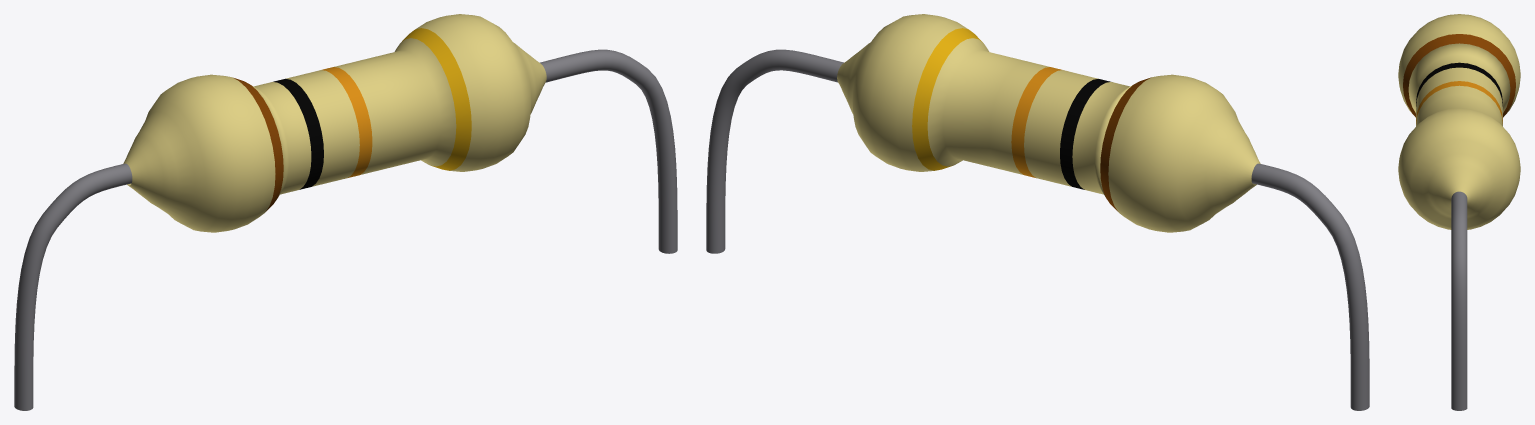
Rendered from Resistor10K.fbx.
3 views of the same model, side by side, from view 1: azimuth 30°, elevation 25°; view 2: azimuth 150°, elevation 25°; view 3: azimuth 270°, elevation 25° (orthographic). The views are drawn at different scales.
Visible parts, largest first — view 1: Resistor.001; view 2: Resistor.001; view 3: Resistor.001.
Part boxes in pixels (x1,y1,x2,y2): Resistor.001: [14, 14, 677, 410]; Resistor.001: [706, 14, 1369, 410]; Resistor.001: [1398, 14, 1520, 410].
Bounding box in the file's own units: 139 × 55.95 × 28.78.
